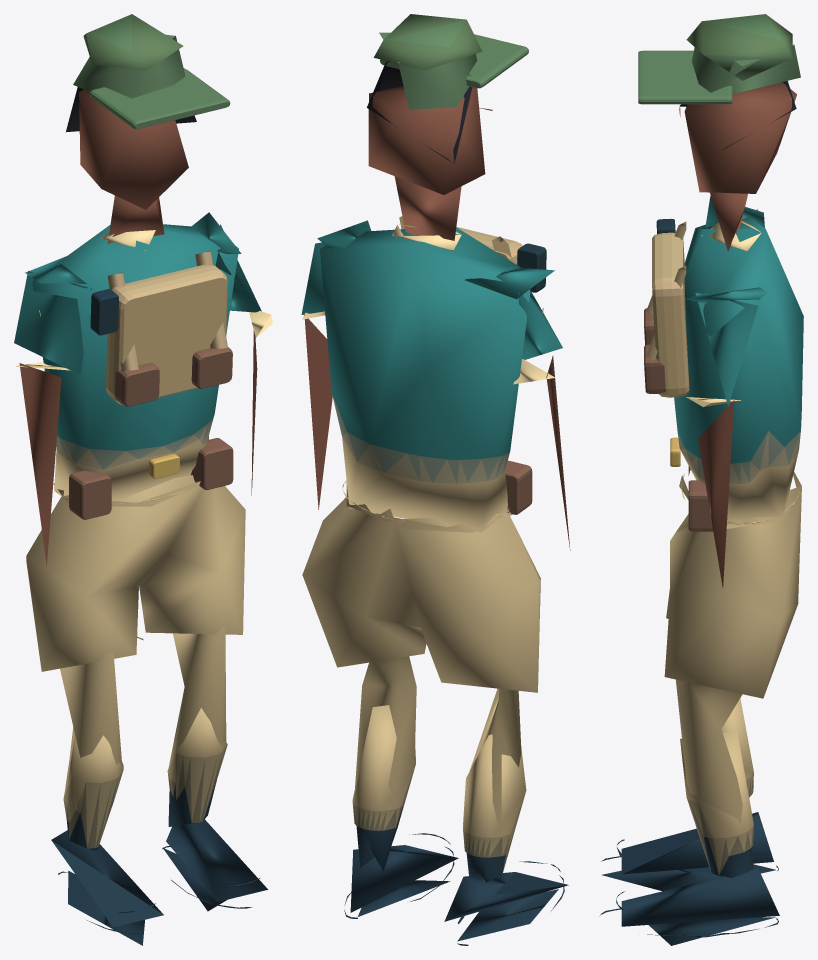
Rendered from guard-lookout-lod2.glb.
The picture shows the model from 3 angles, left to right: view 1: azimuth 30°, elevation 25°; view 2: azimuth 150°, elevation 25°; view 3: azimuth 270°, elevation 25°; orthographic projection. The views are drawn at different scales.
Parts seen in each view (by area): view 1: Guard; view 2: Guard; view 3: Guard.
Boxes of the visible parts, x1,y1,x2,y2 form: Guard: [14, 14, 272, 945]; Guard: [301, 14, 570, 945]; Guard: [599, 14, 803, 945].
Bounding box in the file's own units: 0.4082 × 1.33 × 0.283.
1 material, 1 textured.
